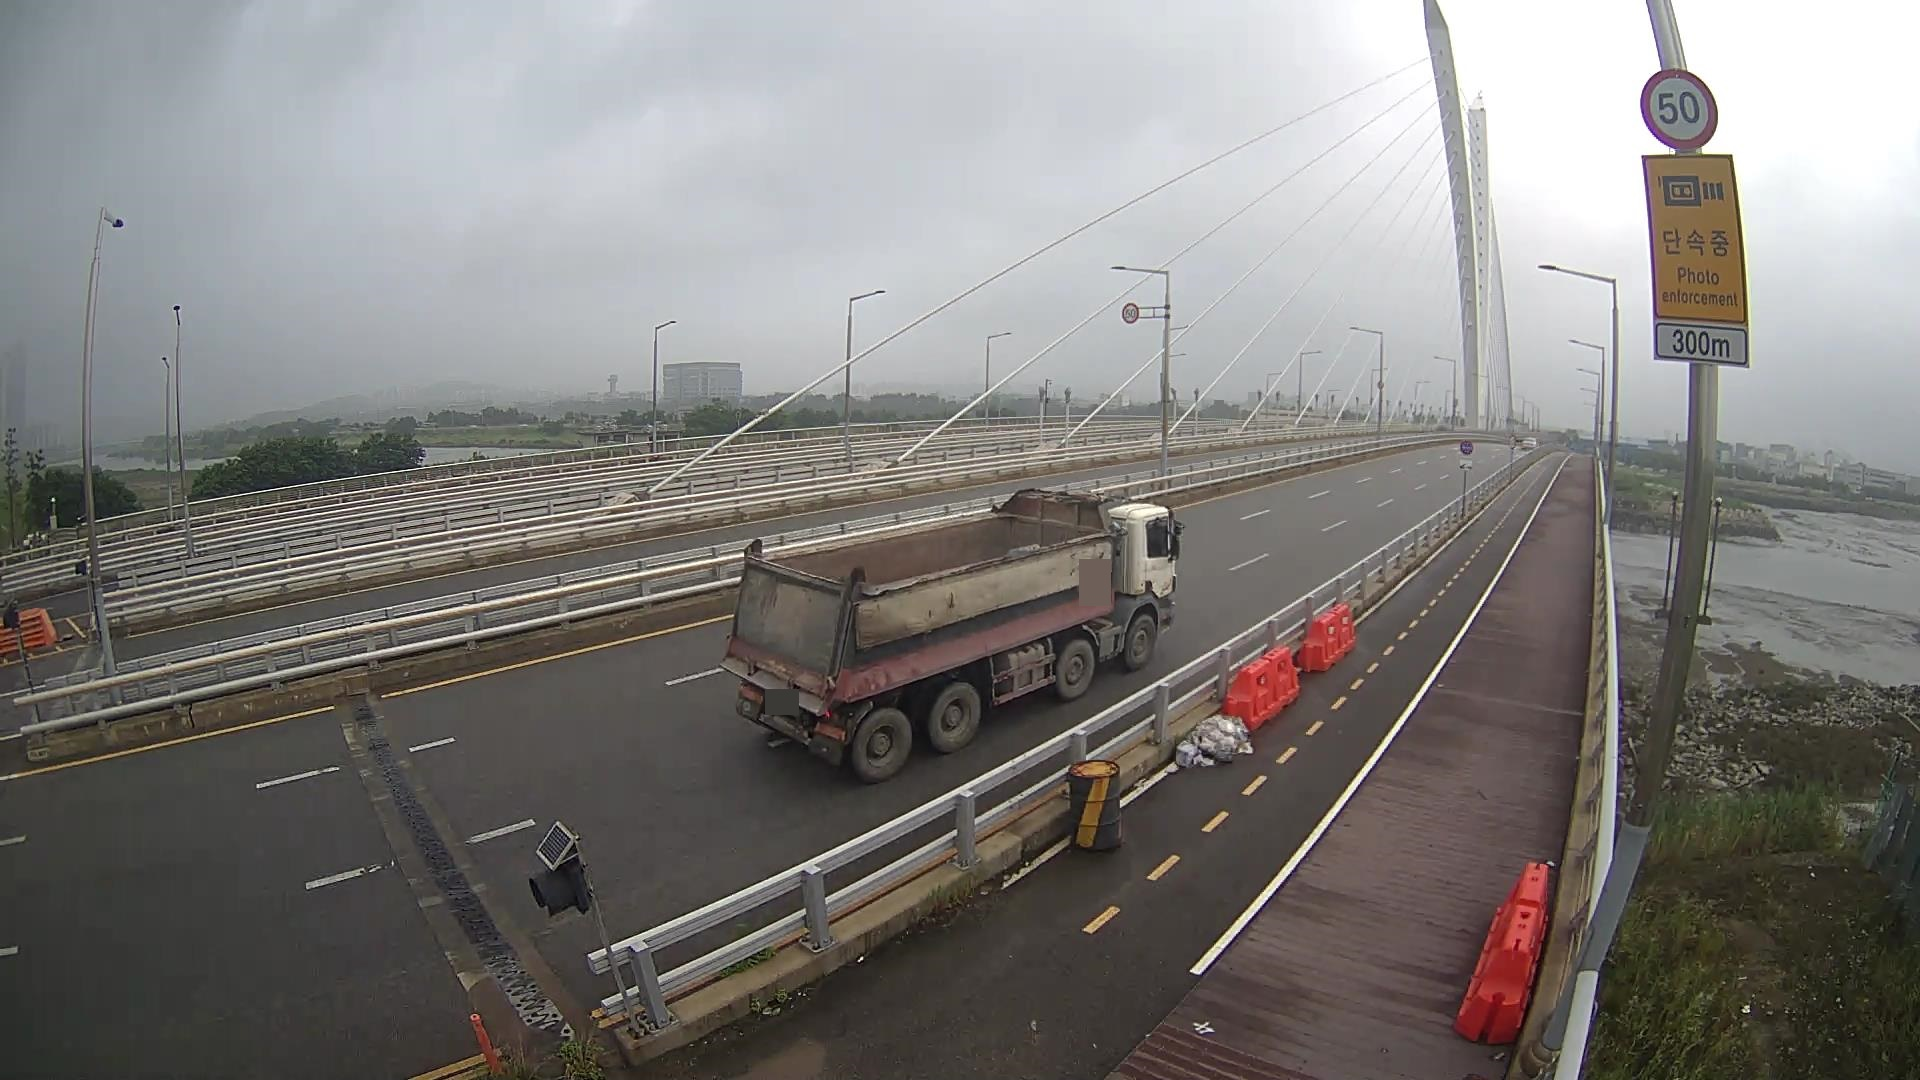정상차량: (717, 487, 1187, 785)
